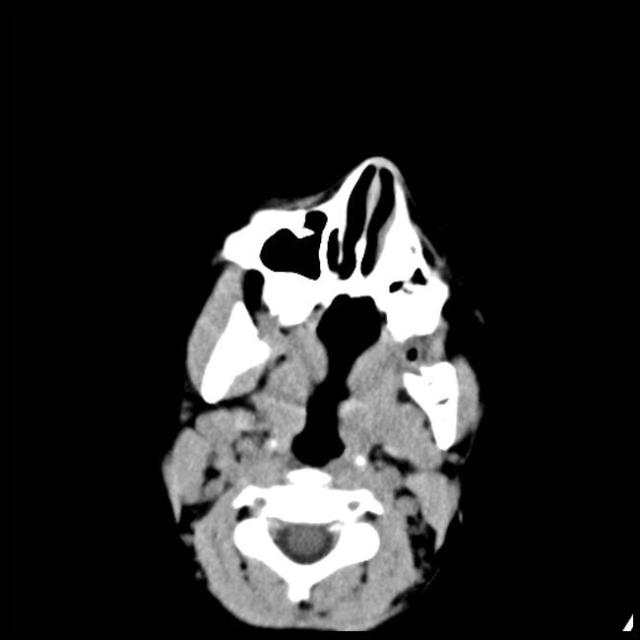lesion: (156, 151, 492, 635)
